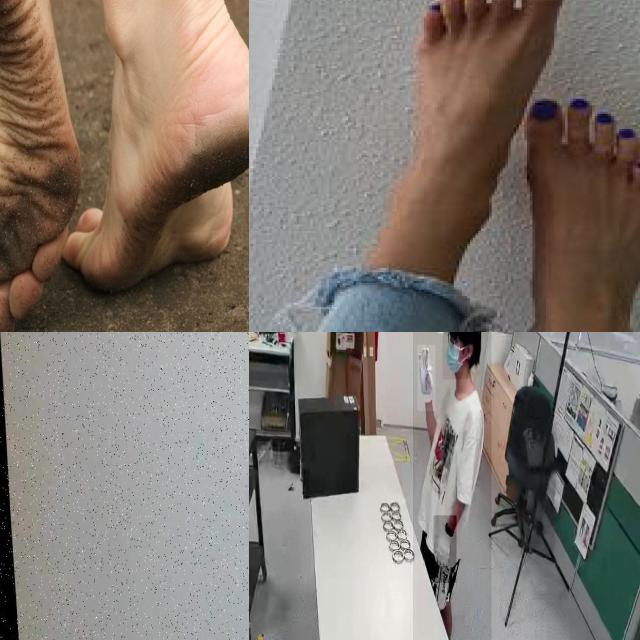Barefoots: (62, 15, 249, 292), (515, 98, 640, 332), (0, 0, 82, 332)
face_mask: (442, 332, 469, 379)
hand_glove: (433, 515, 457, 584), (418, 345, 436, 411)
person: (413, 332, 492, 640)
